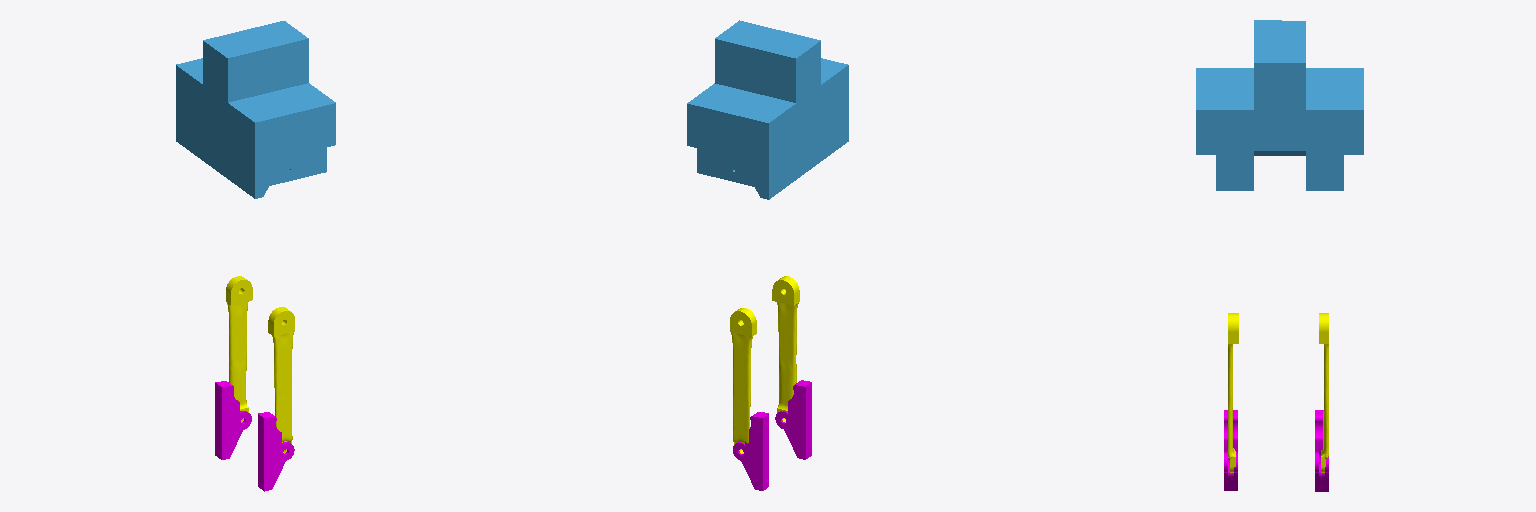
The robot description file, URDF, robot "four_dof":
<robot name="four_dof">

    <material name="red">
        <color rgba="1.0 0.0 0.0 1"/>
    </material>

    <material name="green_light">
        <color rgba="0.0 1.0 0.0 1"/>
    </material>

    <material name="green_dark">
        <color rgba="0.0 0.5 0.0 1"/>
    </material>

    <material name="blue">
        <color rgba="0.0 0.0 1.0 1"/>
    </material>

    <material name="yellow">
        <color rgba="1.0 1.0 0.0 1"/>
    </material>

    <material name="magenta">
        <color rgba="1.0 0.0 1.0 1"/>
    </material>


    <link name="base_link">
    </link>

    <link name="body">
        <inertial>
            <origin xyz= "0.02973 0.04568 0 " rpy = "0 0 0" />
            <mass value="1.1161"/>
            <inertia ixx="1.9388" ixy="-0.057687491" ixz="0.00002363" iyy="1.7493" iyz="0.000528114" izz="1.2587"/>
        </inertial>
        <visual>
            <geometry>
                <mesh filename="package://four_dof/meshes/draft2/body_for_Sym.stl" scale="0.001 0.001 0.001"/>
            </geometry>
        </visual>

        <collision>
            <geometry>
                <mesh filename="package://four_dof/meshes/draft2/body_for_Sym.stl" scale="0.001 0.001 0.001"/>
            </geometry>
        </collision>

    </link>

    <!--left thigh-->
    <link name="left_front_thigh">

        <inertial>
            <mass value="0.030"/>
            <inertia ixx="0.11851" ixy="-0.000071553" ixz="0.000012929" iyy="0.011844023" iyz="-0.000083774" izz="0.11251"/>
        </inertial>

        <visual>
            <geometry>
                <mesh filename="package://four_dof/meshes/draft2/left_front_thigh_link.stl" scale="0.001 0.001 0.001"/>
            </geometry>
            <material name="green_dark"/>
        </visual>

        <collision>
            <geometry>
                <mesh filename="package://four_dof/meshes/draft2/left_front_thigh_link.stl" scale="0.001 0.001 0.001"/>
            </geometry>
        </collision>
    </link>


    <link name="right_front_thigh">
        <inertial>
            <mass value="0.030"/>
            <inertia ixx="0.11851" ixy="-0.000071553" ixz="-0.000012929" iyy="0.011844023" iyz="0.000083774" izz="0.11251"/>
        </inertial>

        <visual>
            <geometry>
                <mesh filename="package://four_dof/meshes/draft2/right_front_thigh_link.stl" scale="0.001 0.001 0.001"/>
            </geometry>
            <material name="green_dark"/>
        </visual>
        <collision>
            <geometry>
                <mesh filename="package://four_dof/meshes/draft2/right_front_thigh_link.stl" scale="0.001 0.001 0.001"/>
            </geometry>
        </collision>
    </link>

    <link name="left_front_knee">
        <inertial>
            <mass value="0.015"/>
            <inertia ixx="0.033234919" ixy="-0.00000077" ixz="-0.000000111" iyy="0.000557729" iyz="-0.00028742" izz="0.033649906"/>

        </inertial>
        <visual>
            <geometry>
                <mesh filename="package://four_dof/meshes/draft2/left_front_knee_link.stl" scale="0.001 0.001 0.001"/>
            </geometry>
            <material name="yellow"/>
        </visual>

        <collision>
            <geometry>
                <mesh filename="package://four_dof/meshes/draft2/left_front_knee_link.stl" scale="0.001 0.001 0.001"/>
            </geometry>
        </collision>
    </link>


    <link name="right_front_knee">
        <inertial>
            <mass value="0.015"/>
            <inertia ixx="0.034226714" ixy="-0.000001853" ixz="0.000000174" iyy="0.000587234" iyz="0.000406211" izz="0.03464269"/>


        </inertial>
        <visual>
            <geometry>
                <mesh filename="package://four_dof/meshes/draft2/right_front_knee_link.stl" scale="0.001 0.001 0.001"/>
            </geometry>
            <material name="yellow"/>
        </visual>

        <collision>
            <geometry>
                <mesh filename="package://four_dof/meshes/draft2/right_front_knee_link.stl" scale="0.001 0.001 0.001"/>
            </geometry>
        </collision>
    </link>


    <link name="left_foot">
        <inertial>
            <mass value="0.010"/>
            <inertia ixx="0.000779056" ixy="-0.000062667" ixz="-0.000000038827" iyy="0.004965846" iyz="-0.000000078182" izz="0.005390635"/>

        </inertial>
        <visual>
            <geometry>
                <mesh filename="package://four_dof/meshes/draft2/left_foot.stl" scale="0.001 0.001 0.001"/>
            </geometry>
            <material name="magenta"/>
        </visual>

        <collision>
            <geometry>
                <mesh filename="package://four_dof/meshes/draft2/left_foot.stl" scale="0.001 0.001 0.001"/>
            </geometry>
        </collision>

    </link>

    <link name="right_foot">
        <inertial>
            <mass value="0.010"/>
            <inertia ixx="0.000779056" ixy="-0.000062667" ixz="0.000000038838" iyy="0.004965846" iyz="0.000000078115" izz="0.005390635"/>

        </inertial>

        <visual>
            <geometry>
                <mesh filename="package://four_dof/meshes/draft2/right_foot.stl" scale="0.001 0.001 0.001"/>
            </geometry>
            <material name="magenta"/>
        </visual>

        <collision>
            <geometry>
                <mesh filename="package://four_dof/meshes/draft2/right_foot.stl" scale="0.001 0.001 0.001"/>
            </geometry>
        </collision>

    </link>

    <joint name="base_to_body" type="fixed">
        <parent link="base_link"/>
        <child link="body"/>
        <origin xyz="0.0 0.0 0" rpy="1.57 0 0 "/>
    </joint>

    <joint name="body_to_left_thigh" type="revolute">
        <parent link="body"/>
        <child link="left_front_thigh"/>
        <origin xyz="0.035 0.009408 -0.05025" rpy="0 0 0"/>
        <axis xyz="0.0 0.0 1"/>
        <limit effort="1000.0" lower="-1.57" upper="1.57" velocity="0.5"/>
    </joint>

    <joint name="body_to_right_thigh" type="revolute">
        <parent link="body"/>
        <child link="right_front_thigh"/>
        <origin xyz="0.035 0.009408 -0.05025" rpy="0 0 0"/>
        <axis xyz="0.0 0.0 1"/>
        <limit effort="1000.0" lower="-1.57" upper="1.57" velocity="0.5"/>
    </joint>

    <joint name="left_thigh_to_knee" type="revolute">
        <parent link="left_front_thigh"/>
        <child link="left_front_knee"/>
        <origin xyz="0.0 -0.134 0.01435" rpy="0 0 0"/>
        <axis xyz="0.0 0.0 1"/>
        <limit effort="1000" lower="-1.57" upper="1.57" velocity="0"/>
    </joint>

    <joint name="right_thigh_to_knee" type="revolute">
        <parent link="right_front_thigh"/>
        <child link="right_front_knee"/>
        <origin xyz="0.0 -0.134 0.01435" rpy="0 0 0"/>
        <axis xyz="0.0 0.0 1"/>
        <limit effort="1000" lower="-1.57" upper="1.57" velocity="0" />
    </joint>

    <joint name="left_knee_to_foot" type="revolute">

        <parent link="left_front_knee"/>
        <child link="left_foot"/>
        <origin xyz="0.0 -0.110041 0.0" rpy="0.0 0.0 -1.57"/>
        <axis xyz="0.0 0.0 1.0"/>
        <limit effort="1000" lower="-1.57" upper="1.57" velocity="0"/>
    </joint>

    <joint name="right_knee_to_foot" type="revolute">

        <parent link="right_front_knee"/>
        <child link="right_foot"/>
        <origin xyz="0.0 -0.110041 0.0" rpy="0.0 0.0 -1.57"/>
        <axis xyz="0.0 0.0 1.0"/>
        <limit effort="1000" lower="-1.57" upper="1.57" velocity="0"/>
    </joint>

</robot>

--- Render facts (derived) ---
Views: 3 orthographic renders of the robot side by side, from view 1: azimuth 30°, elevation 25°; view 2: azimuth 150°, elevation 25°; view 3: azimuth 270°, elevation 25°.
Robot: four_dof — 8 links, 7 joints (6 revolute, 1 fixed); root link base_link; default pose: all joints at 0.
Links seen in each view (by area): view 1: body, right_front_knee, left_front_knee, left_foot, right_foot; view 2: body, left_front_knee, right_front_knee, right_foot, left_foot; view 3: body, right_front_knee, left_front_knee, right_foot, left_foot.
Boxes of the visible links, box(x1,y1,x2,y2) form: body: box(176, 21, 335, 198); right_front_knee: box(268, 307, 294, 453); left_front_knee: box(226, 276, 252, 422); left_foot: box(215, 381, 251, 459); right_foot: box(258, 412, 294, 491); body: box(687, 20, 848, 199); left_front_knee: box(730, 308, 756, 453); right_front_knee: box(772, 276, 799, 422); right_foot: box(775, 380, 811, 459); left_foot: box(733, 412, 768, 490); body: box(1196, 20, 1363, 190); right_front_knee: box(1228, 313, 1238, 472); left_front_knee: box(1319, 313, 1328, 472); right_foot: box(1224, 410, 1237, 490); left_foot: box(1315, 410, 1328, 491).
Size in the robot's own frame: 0.0729 by 0.1236 by 0.3672 metres.
5 mesh visuals loaded from 7 distinct referenced files (5 binary STL); not drawn: 2 (reference not matched to a file when rendering).